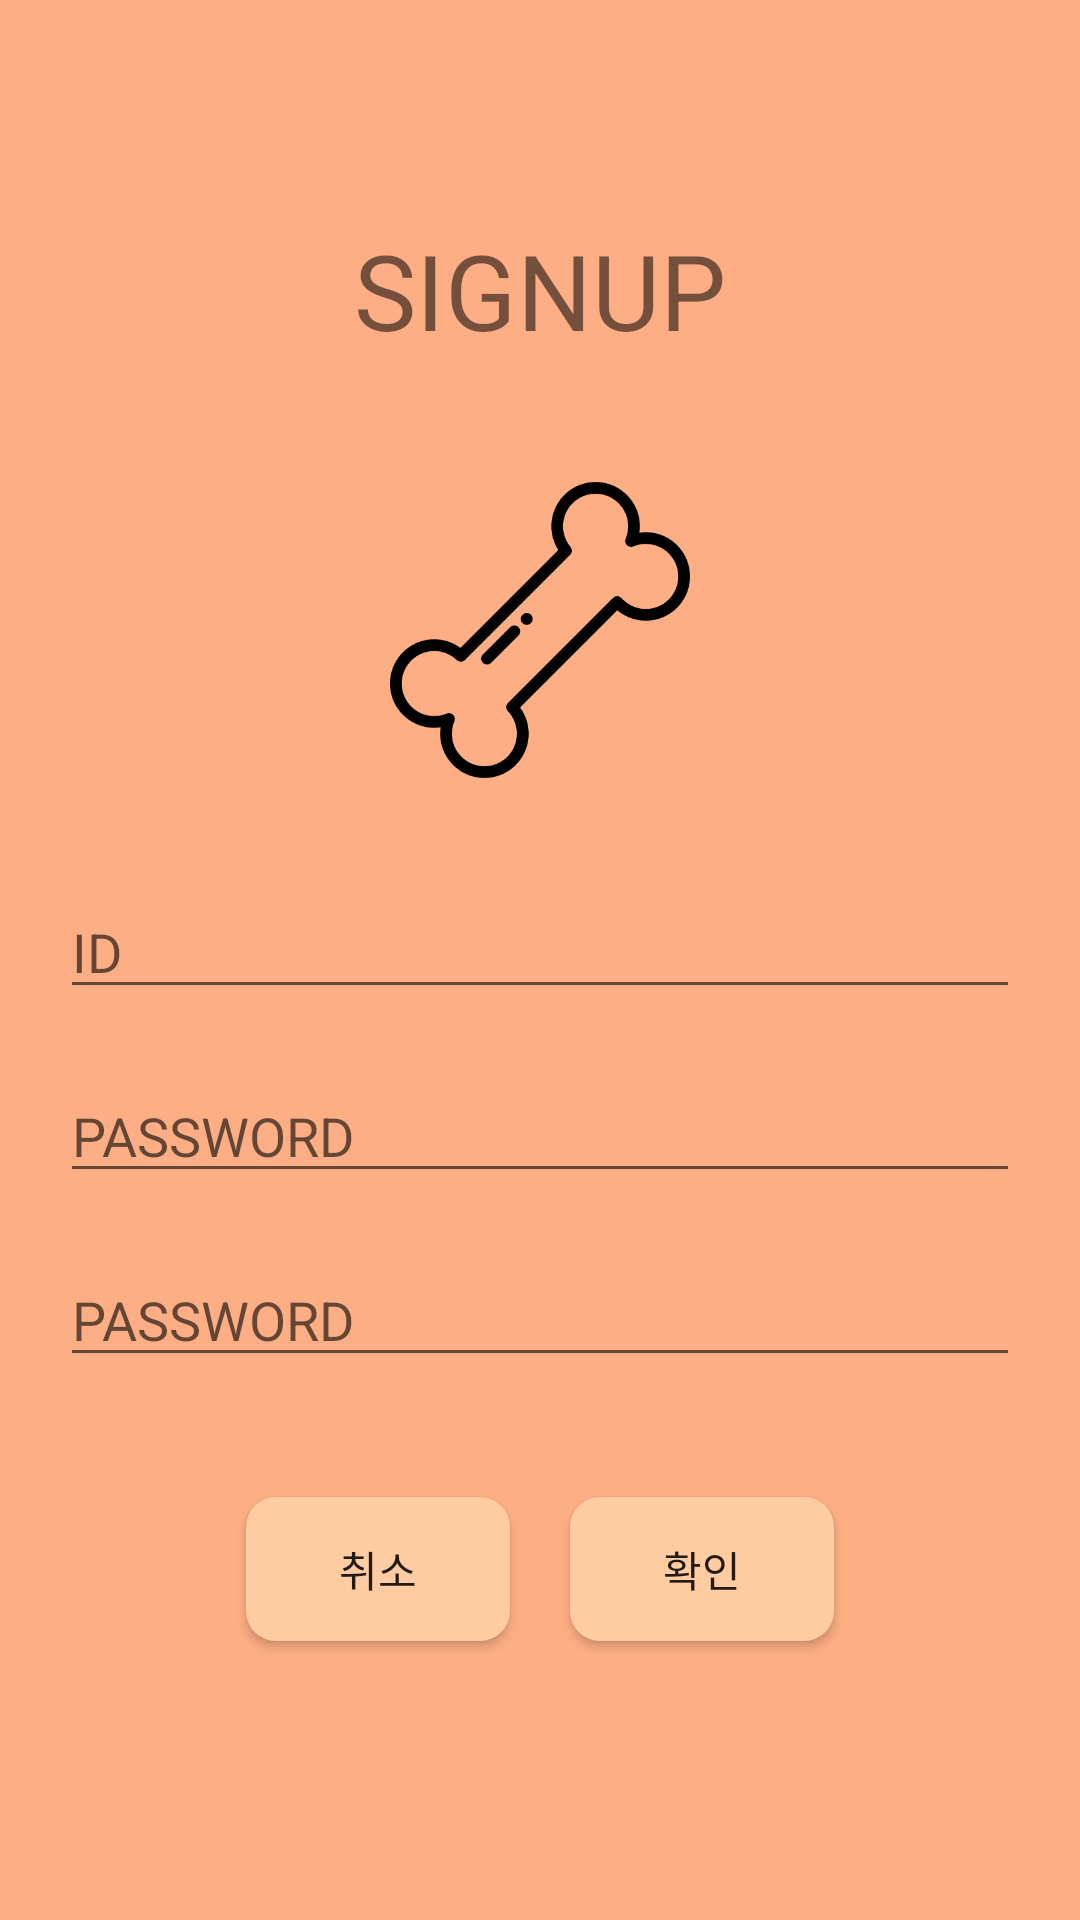

Screen size 1080px×1920px. Icon name, then its center in pixels as (x,y):
bone: (540,630)
